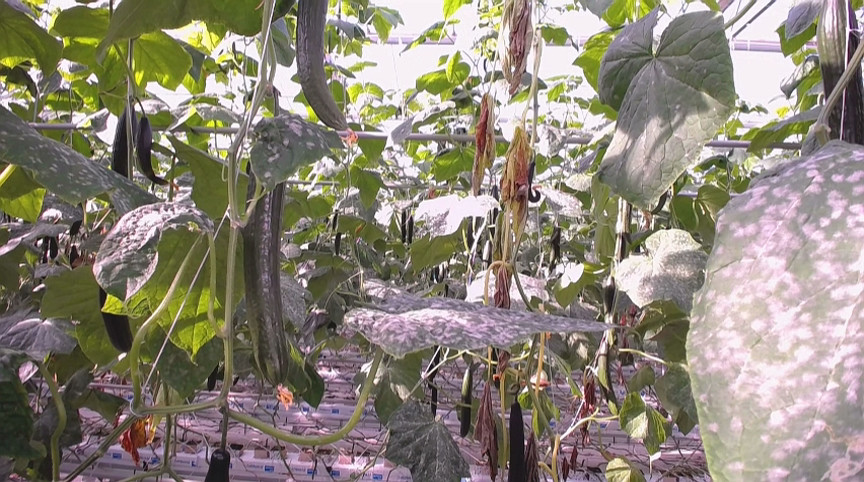cucumber: (246, 173, 288, 386), (816, 1, 864, 144), (297, 1, 347, 131), (97, 290, 134, 352), (135, 117, 166, 186), (112, 108, 131, 178), (510, 404, 526, 482), (459, 366, 475, 437)
